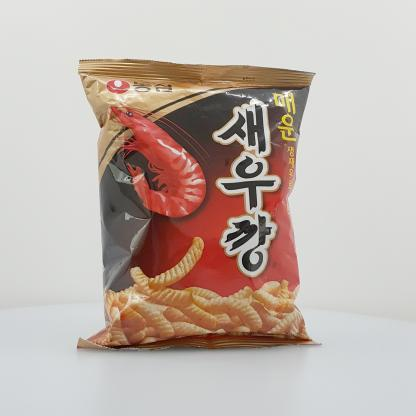Plastic Packaging: (71, 53, 329, 357)
